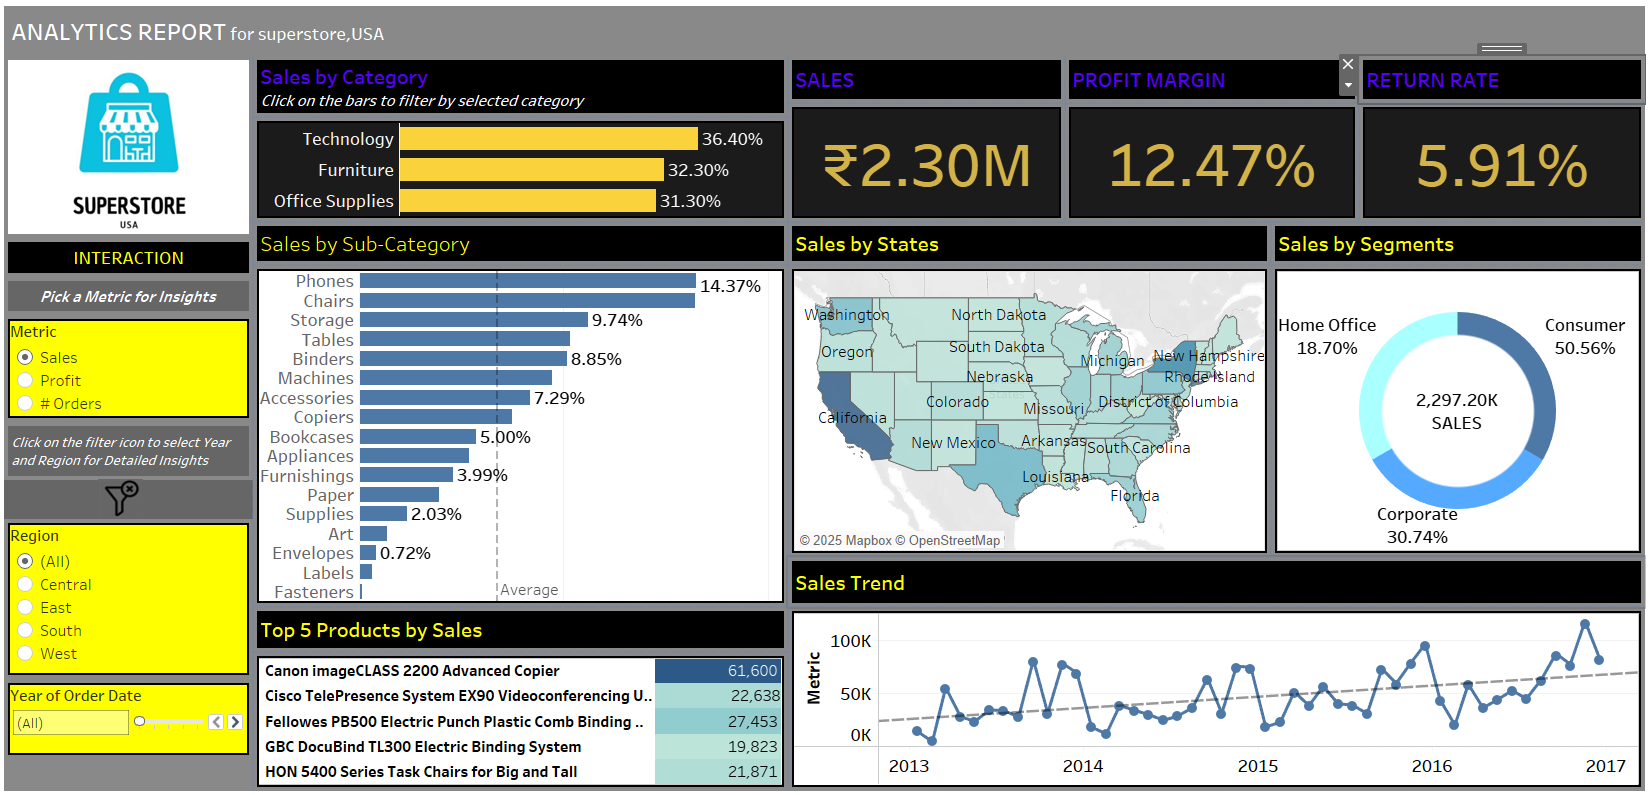

The page's visual inventory and layout, read from the dashboard file:
{"tool":"tableau","page":{"name":"Dashboard ","canvas":[1000,1000],"units":"permille","ordinal":0},"visuals":[{"type":"text","box":[4.8,10,990.3,62.4]},{"type":"image","param":"Image/dashboard icon.png","box":[4.8,72.4,150.5,227.2]},{"type":"text","box":[155.3,72.4,322.7,76.2]},{"type":"text","box":[478,72.4,166.9,58.4]},{"type":"text","box":[644.9,72.4,177.5,58.4]},{"type":"text","box":[822.4,72.4,172.8,58.4]},{"type":"worksheet","title":"Sales Card","mark":"Automatic","box":[478,130.8,166.9,148.8]},{"type":"worksheet","title":"PROFIT MARGIN","mark":"Automatic","box":[644.9,130.8,177.5,148.8]},{"type":"worksheet","title":"RETURN RATE","mark":"Automatic","box":[822.4,130.8,172.8,148.8]},{"type":"worksheet","title":"Sales by category","mark":"Automatic","rows":["Category"],"cols":["Calculation_2223652332625772544"],"box":[155.3,148.6,322.7,131.1]},{"type":"text","box":[155.3,279.7,322.7,53.7]},{"type":"text","box":[478,279.7,291.2,53.7]},{"type":"text","box":[769.2,279.7,225.9,53.7]},{"type":"text","box":[4.8,299.6,150.5,48.7]},{"type":"worksheet","title":"Sales by sub-category","mark":"Automatic","rows":["Sub-Category"],"cols":["Calculation_2223652332625772544"],"box":[155.3,333.3,322.7,427.3]},{"type":"worksheet","title":"Sales by state","mark":"Automatic","box":[478,333.3,291.2,364.6]},{"type":"worksheet","title":"Sales by segment","mark":"Pie","rows":["Calculation_2125699041142067207","Calculation_2125699041142108169"],"box":[769.2,333.3,225.9,364.6]},{"type":"text","box":[4.8,348.3,150.5,47.5]},{"type":"parameter","param":"[Parameters].[Parameter 2]","box":[4.8,395.8,150.5,133.6]},{"type":"text","box":[4.8,529.4,150.5,72.4]},{"type":"dashboard-object","box":[6.4,600.5,137.1,48.7]},{"type":"filter","title":"Sales by state","param":"[federated.17h3efh0rz2r4317mcyz00nuxtkr].[none:Region:nk]","box":[4.8,650.5,150.5,199.8]},{"type":"text","box":[478,697.9,517.1,62.4]},{"type":"worksheet","title":"Sales Trend","mark":"Automatic","rows":["Calculation_2223652332625772544","Calculation_2223652332625772544"],"cols":["Order Date"],"box":[478,760.3,517.1,229.7]},{"type":"text","box":[155.3,760.6,322.7,55.9]},{"type":"worksheet","title":"Top 5 Products by sales","mark":"Square","rows":["Product Name"],"box":[155.3,816.5,322.7,173.5]},{"type":"filter","title":"Sales Trend","param":"[federated.17h3efh0rz2r4317mcyz00nuxtkr].[yr:Order Date:ok]","box":[4.8,850.2,150.5,99.9]}]}

Visuals, with their boxes on the dashboard's canvas, which has no fixed pixel size, in thousandths of its width and height (x1, y1, x2, y2). These are canvas units, not pixel positions in the 1652x795 screenshot, which may show the page scaled, cropped or inside an application window:
text: 5/10/995/72
image: 5/72/155/300
text: 155/72/478/149
text: 478/72/645/131
text: 645/72/822/131
text: 822/72/995/131
"Sales Card" worksheet: 478/131/645/280
"PROFIT MARGIN" worksheet: 645/131/822/280
"RETURN RATE" worksheet: 822/131/995/280
"Sales by category" worksheet: 155/149/478/280
text: 155/280/478/333
text: 478/280/769/333
text: 769/280/995/333
text: 5/300/155/348
"Sales by sub-category" worksheet: 155/333/478/761
"Sales by state" worksheet: 478/333/769/698
"Sales by segment" worksheet (Pie marks): 769/333/995/698
text: 5/348/155/396
parameter: 5/396/155/529
text: 5/529/155/602
dashboard-object: 6/600/144/649
"Sales by state" filter: 5/650/155/850
text: 478/698/995/760
"Sales Trend" worksheet: 478/760/995/990
text: 155/761/478/816
"Top 5 Products by sales" worksheet (Square marks): 155/816/478/990
"Sales Trend" filter: 5/850/155/950
